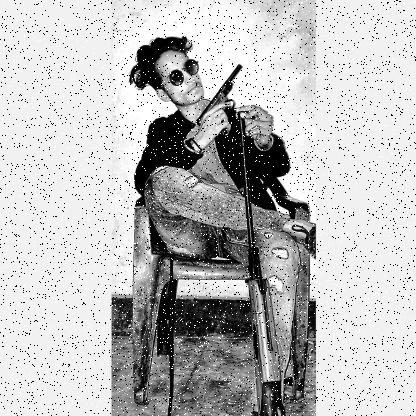rifle: (237, 110, 288, 416), (194, 63, 244, 138)
